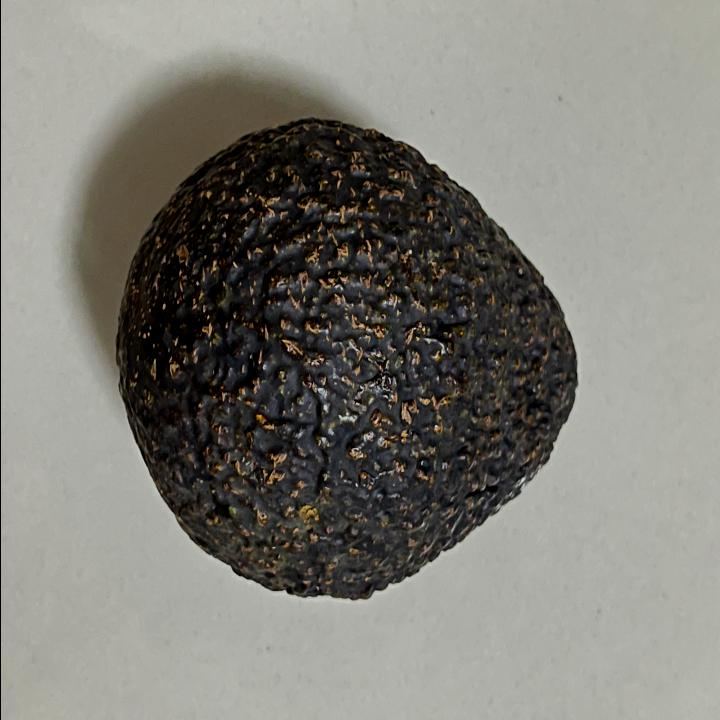Level2: (109, 112, 591, 608)
